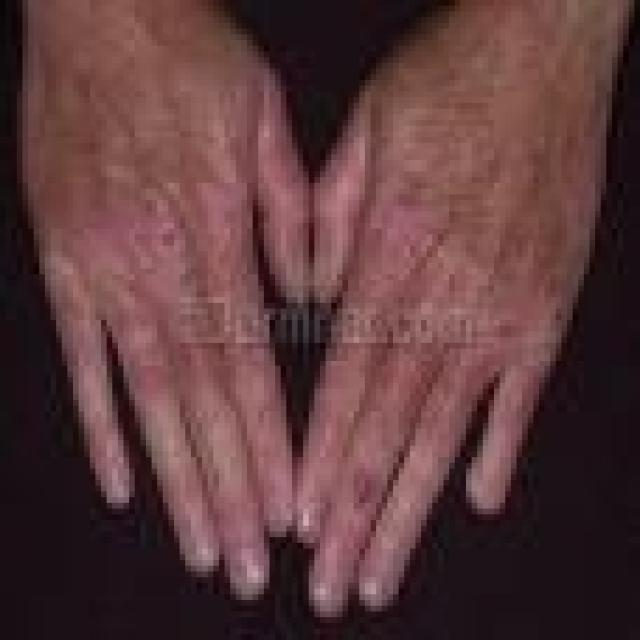Melasma: (406, 0, 604, 285), (35, 23, 234, 233)
